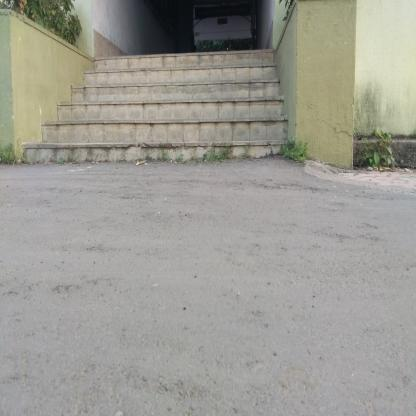stairs: (97, 61, 253, 175)
